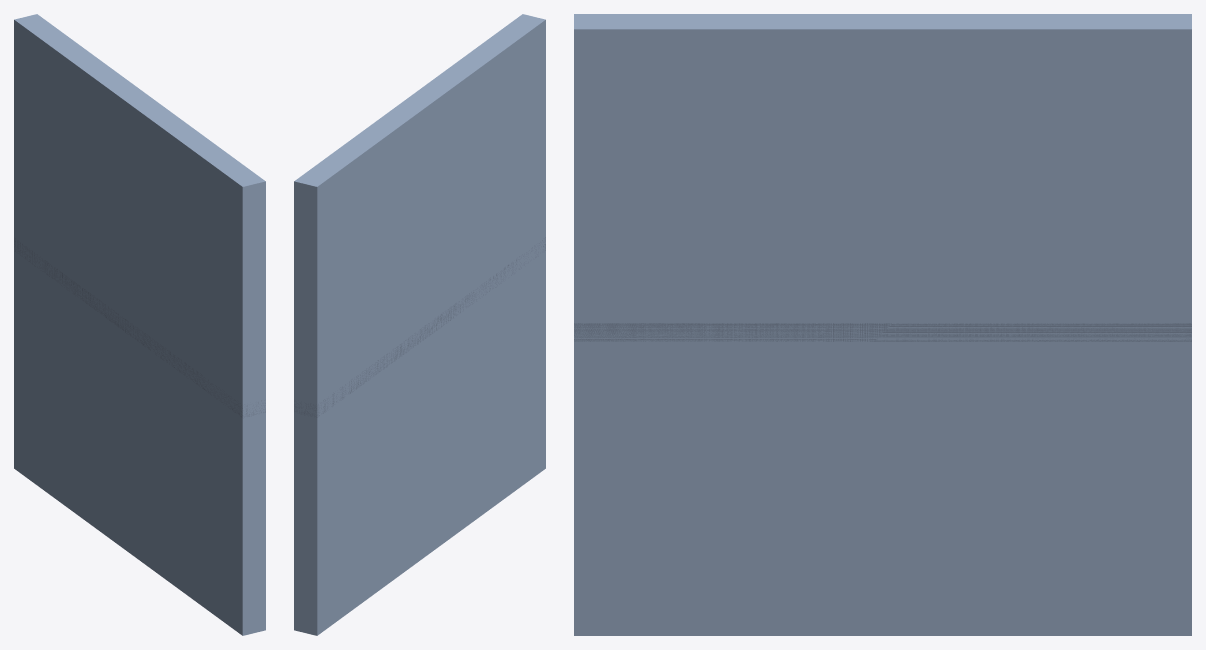
File: window-120.glb
3 views of the same model, side by side, from view 1: azimuth 30°, elevation 25°; view 2: azimuth 150°, elevation 25°; view 3: azimuth 270°, elevation 25° (orthographic). The views are drawn at different scales.
Bounding box in the file's own units: 7 × 130 × 120.
